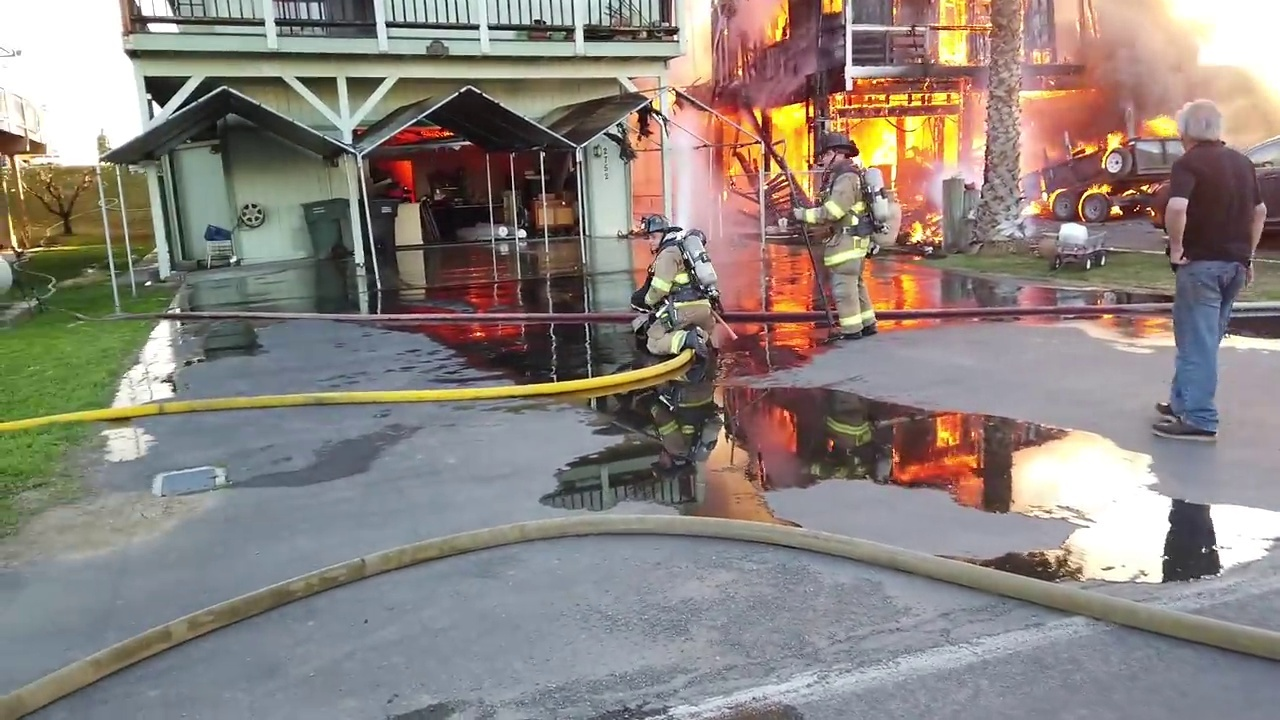fire: (840, 88, 962, 248), (1060, 107, 1182, 158), (1028, 176, 1155, 220), (724, 1, 797, 48), (717, 113, 767, 173), (769, 103, 809, 173), (935, 1, 972, 67), (396, 123, 455, 145), (388, 161, 415, 199)
smoke: (1025, 1, 1279, 141), (715, 1, 799, 50)
